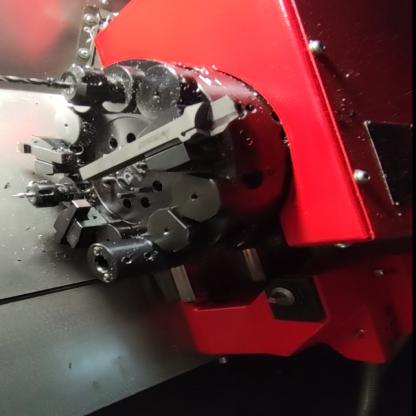bit: (71, 90, 257, 183), (46, 193, 112, 255), (12, 132, 83, 180)
